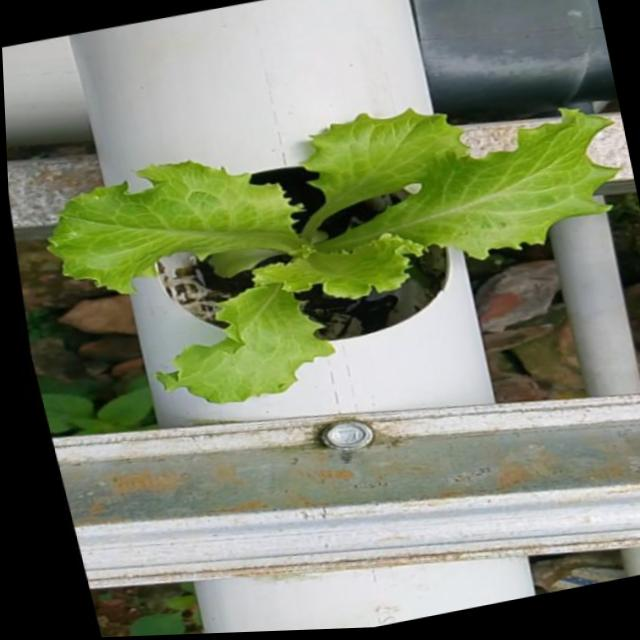Baby: (46, 118, 620, 414)
